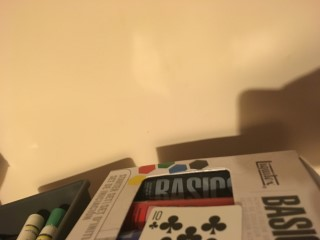TenOfClubs: (141, 205, 241, 239)
